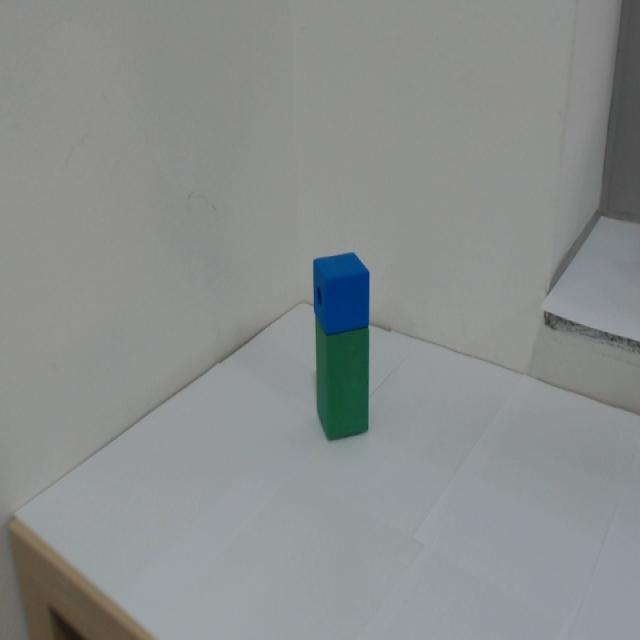cube: (302, 235, 395, 333)
